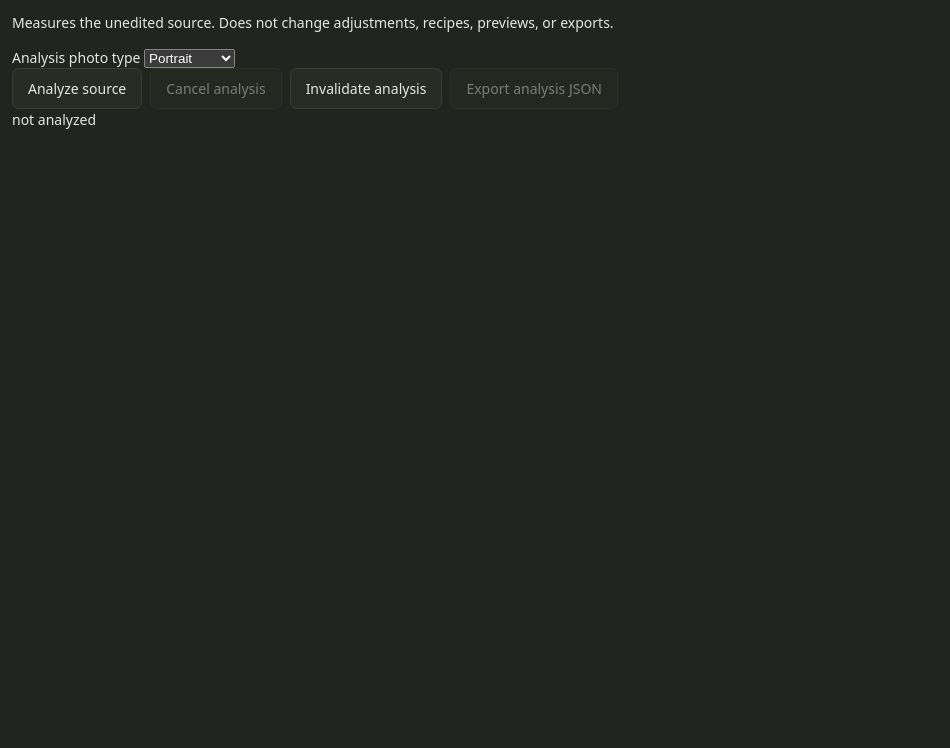
Test: cancels long work and can retry a failed run
Click the button "Analyze source" at (77, 88), box [12,68,142,109]
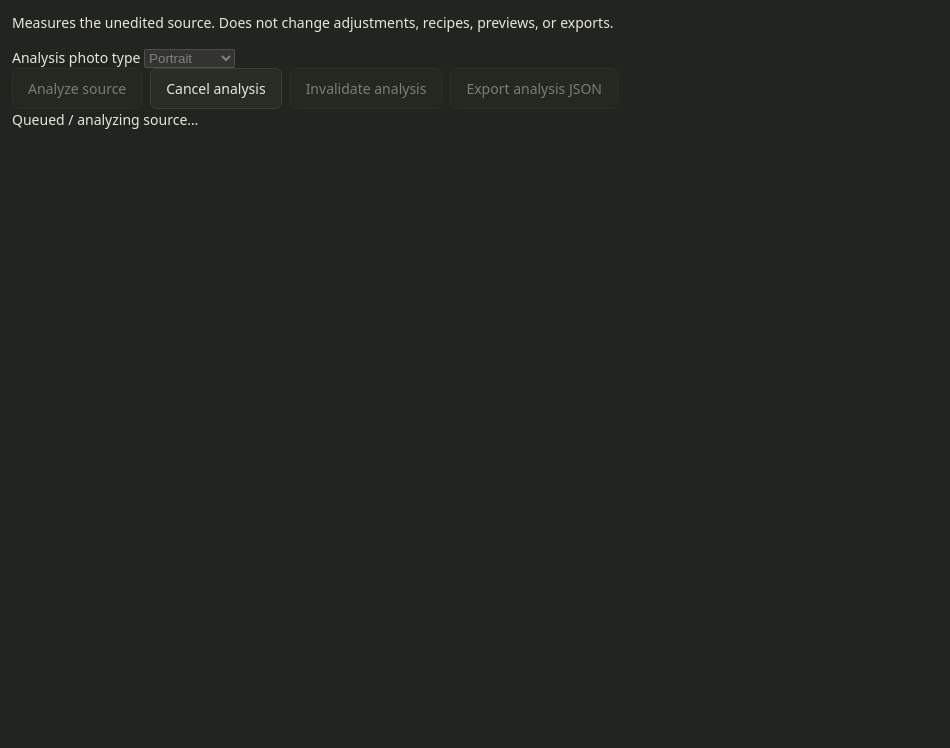
Expected: the dropdown labelled "Analysis photo type" is disabled, [144,49,235,68]
Click the button "Cancel analysis" at (216, 88), box [150,68,282,109]
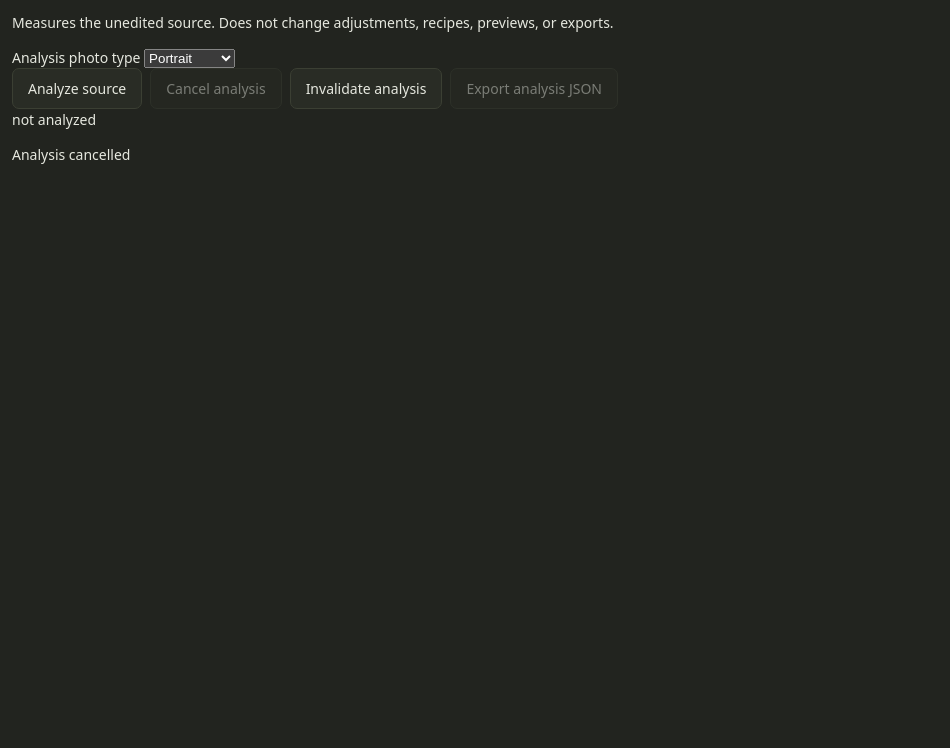
Expected: the message "Analysis cancelled" is shown, [12,145,130,164]
Expected: the button "Analyze source" is enabled
Click the button "Analyze source" at (77, 88), box [12,68,142,109]
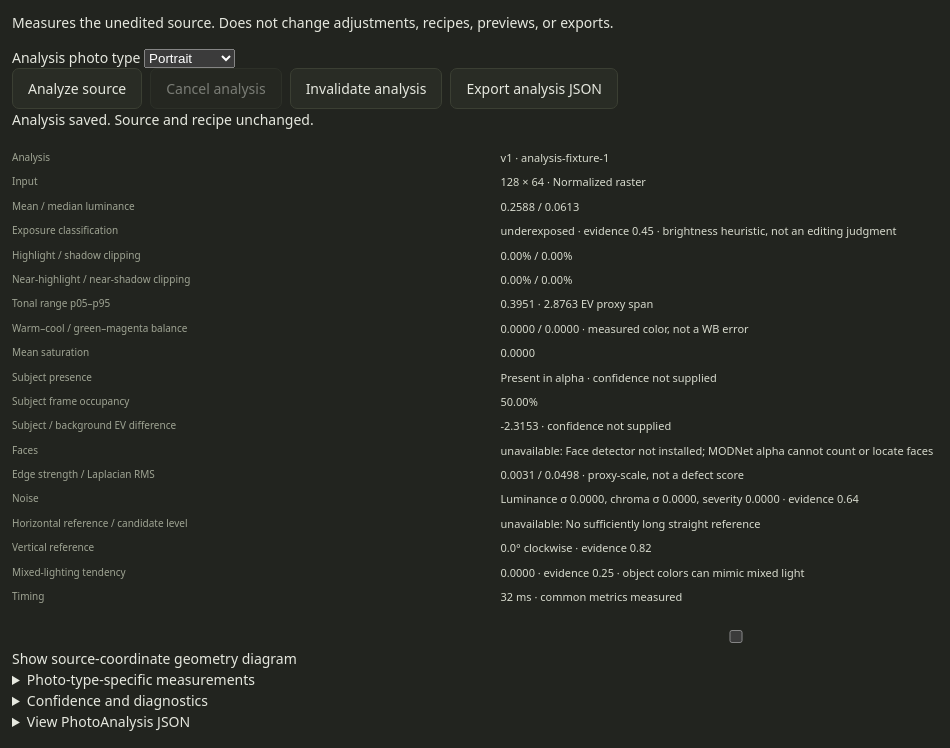
Expected: the text "Analysis saved. Source and recipe unchanged." is shown, [12,110,314,129]
